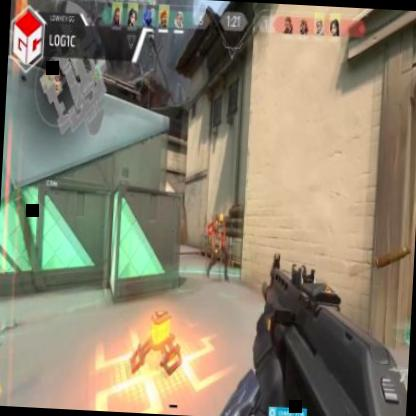enemy: (206, 211, 233, 280)
enemy_head: (217, 212, 224, 225)
